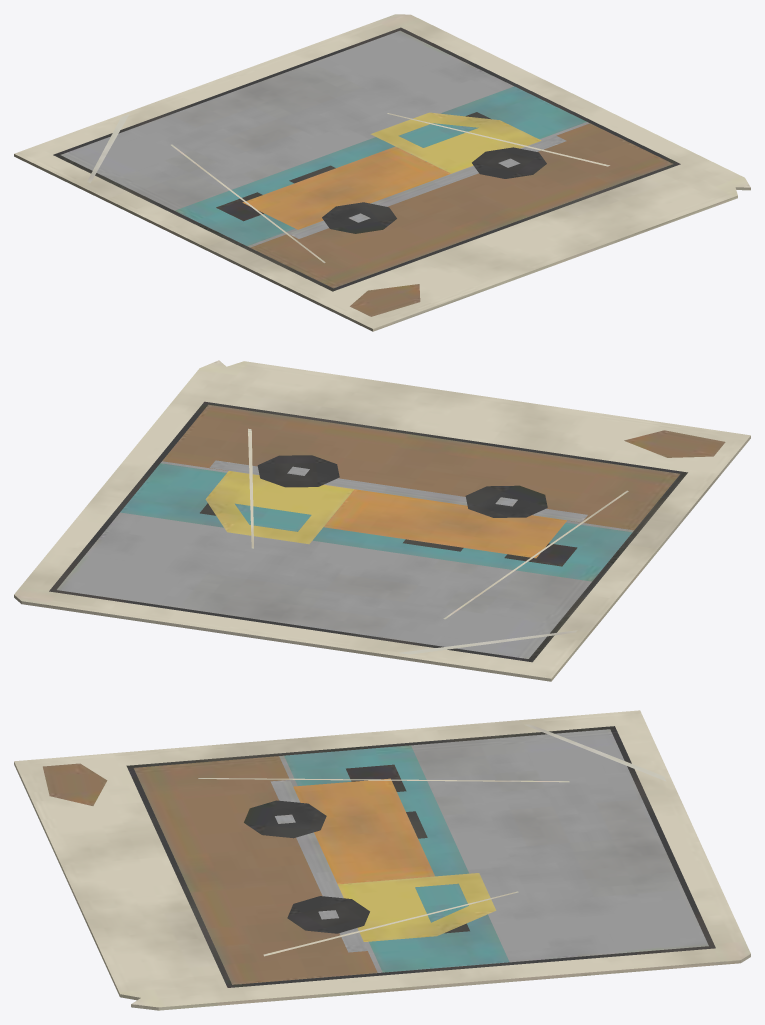
The model's file is P31_polaroid_photos_v3.glb.
The picture shows the model from 3 angles, top to bottom: view 1: azimuth 30°, elevation 25°; view 2: azimuth 150°, elevation 25°; view 3: azimuth 270°, elevation 25°; orthographic projection. The views are drawn at different scales.
Visible parts, largest first — view 1: Old instant photograph; view 2: Old instant photograph; view 3: Old instant photograph.
Part boxes in pixels (box(x1,y1,x2,y2)): Old instant photograph: box(14, 14, 750, 331); Old instant photograph: box(14, 360, 750, 681); Old instant photograph: box(14, 710, 750, 1010).
Size of the model in its own units: 0.0954 by 0.000575 by 0.1.
Materials: 8 (8 with a texture image).
